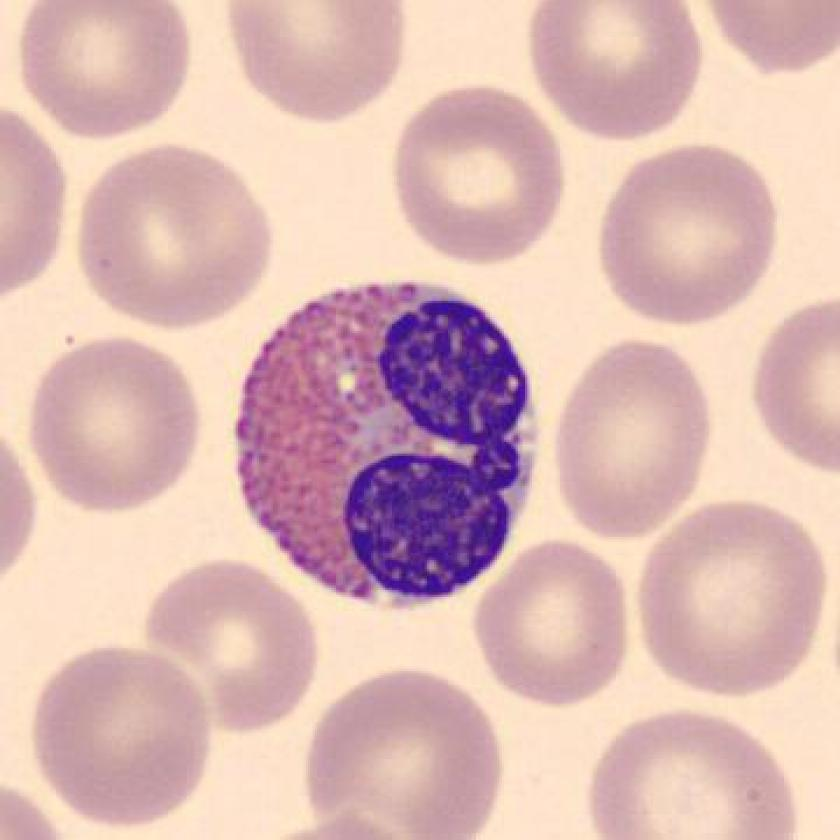eosinophil: (223, 270, 556, 621)
